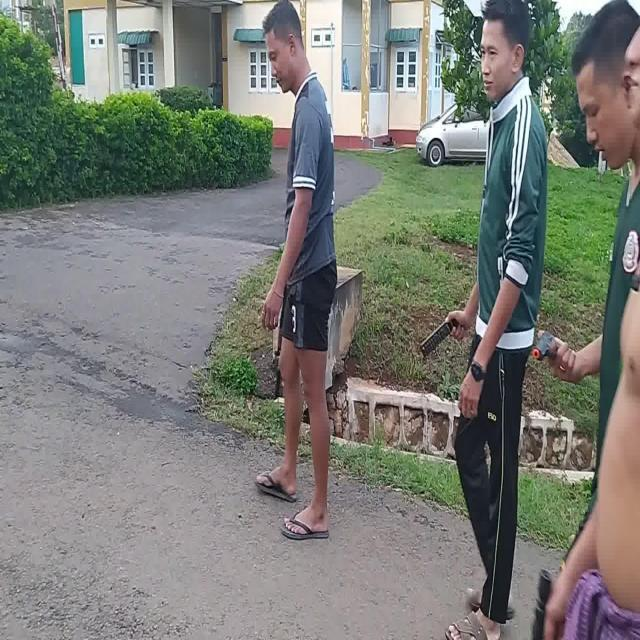gun: (275, 288, 285, 394), (532, 331, 560, 359)
